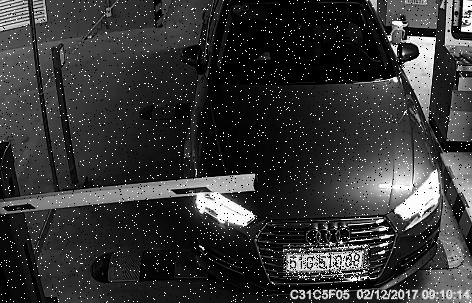License-plate: (285, 246, 372, 282)
